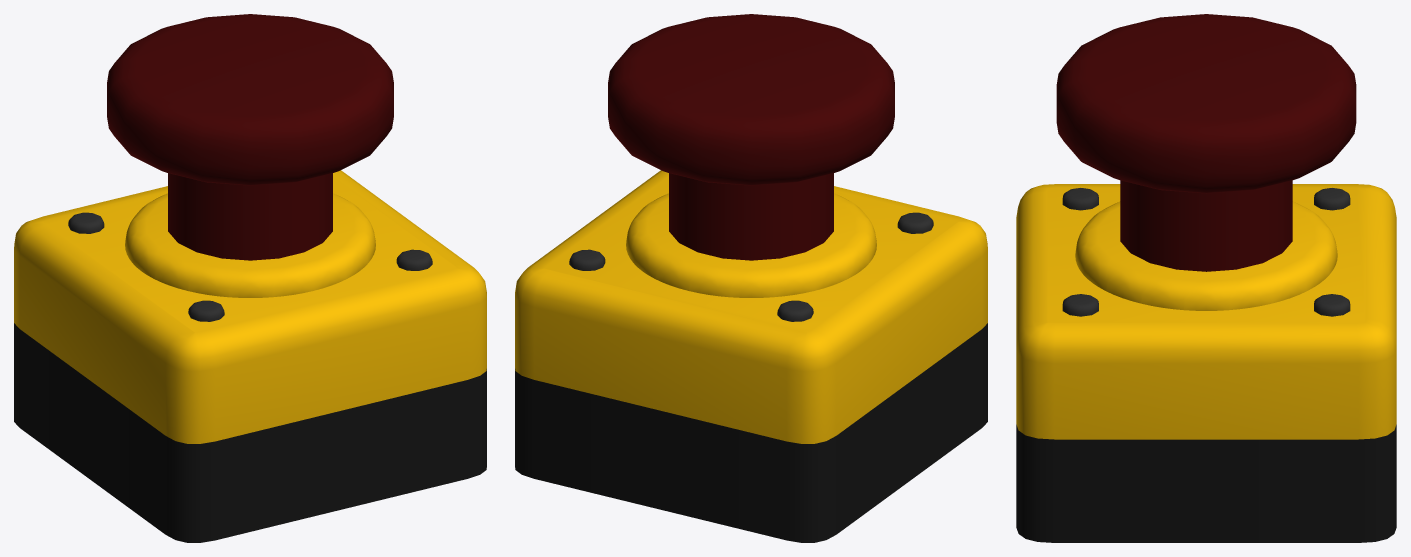
File: button 1.fbx
3 views of the same model, side by side, from view 1: azimuth 30°, elevation 25°; view 2: azimuth 150°, elevation 25°; view 3: azimuth 270°, elevation 25° (orthographic). The views are drawn at different scales.
Parts seen in each view (by area): view 1: Box top, Box bottom, Button top, Button base, Button cyl, Screw 4, Screw 3, Screw 1; view 2: Box top, Box bottom, Button top, Button base, Button cyl, Screw 3, Screw 4, Screw 2; view 3: Box top, Button top, Box bottom, Button base, Button cyl, Screw 1, Screw 2, Screw 3, Screw 4.
Boxes of the visible parts, <box> form: Box top: <box>14,170,486,443</box>; Box bottom: <box>14,323,486,542</box>; Button top: <box>107,14,393,185</box>; Button base: <box>125,193,375,297</box>; Button cyl: <box>168,173,332,260</box>; Screw 4: <box>188,300,224,321</box>; Screw 3: <box>68,212,104,233</box>; Screw 1: <box>396,249,432,270</box>; Box top: <box>515,170,987,443</box>; Box bottom: <box>515,323,987,542</box>; Button top: <box>608,14,894,185</box>; Button base: <box>626,193,876,297</box>; Button cyl: <box>669,173,833,260</box>; Screw 3: <box>777,300,813,321</box>; Screw 4: <box>897,212,933,233</box>; Screw 2: <box>569,249,605,270</box>; Box top: <box>1016,184,1396,439</box>; Button top: <box>1056,14,1356,193</box>; Box bottom: <box>1016,424,1396,542</box>; Button base: <box>1075,201,1337,310</box>; Button cyl: <box>1120,180,1292,271</box>; Screw 1: <box>1062,294,1098,316</box>; Screw 2: <box>1314,294,1350,316</box>; Screw 3: <box>1314,188,1350,210</box>; Screw 4: <box>1062,188,1098,210</box>.
Bounding box in the file's own units: 19.69 × 22.44 × 19.69.
